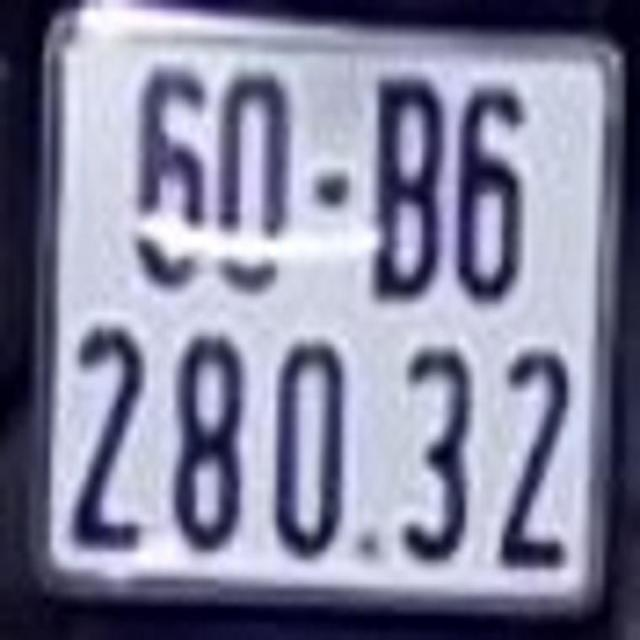0: (266, 340, 347, 562), (220, 71, 290, 292)
2: (496, 344, 574, 570), (70, 324, 144, 550)
3: (402, 344, 474, 566)
6: (136, 59, 208, 295), (458, 85, 530, 306)
8: (170, 332, 247, 550)
B: (369, 70, 449, 306)
